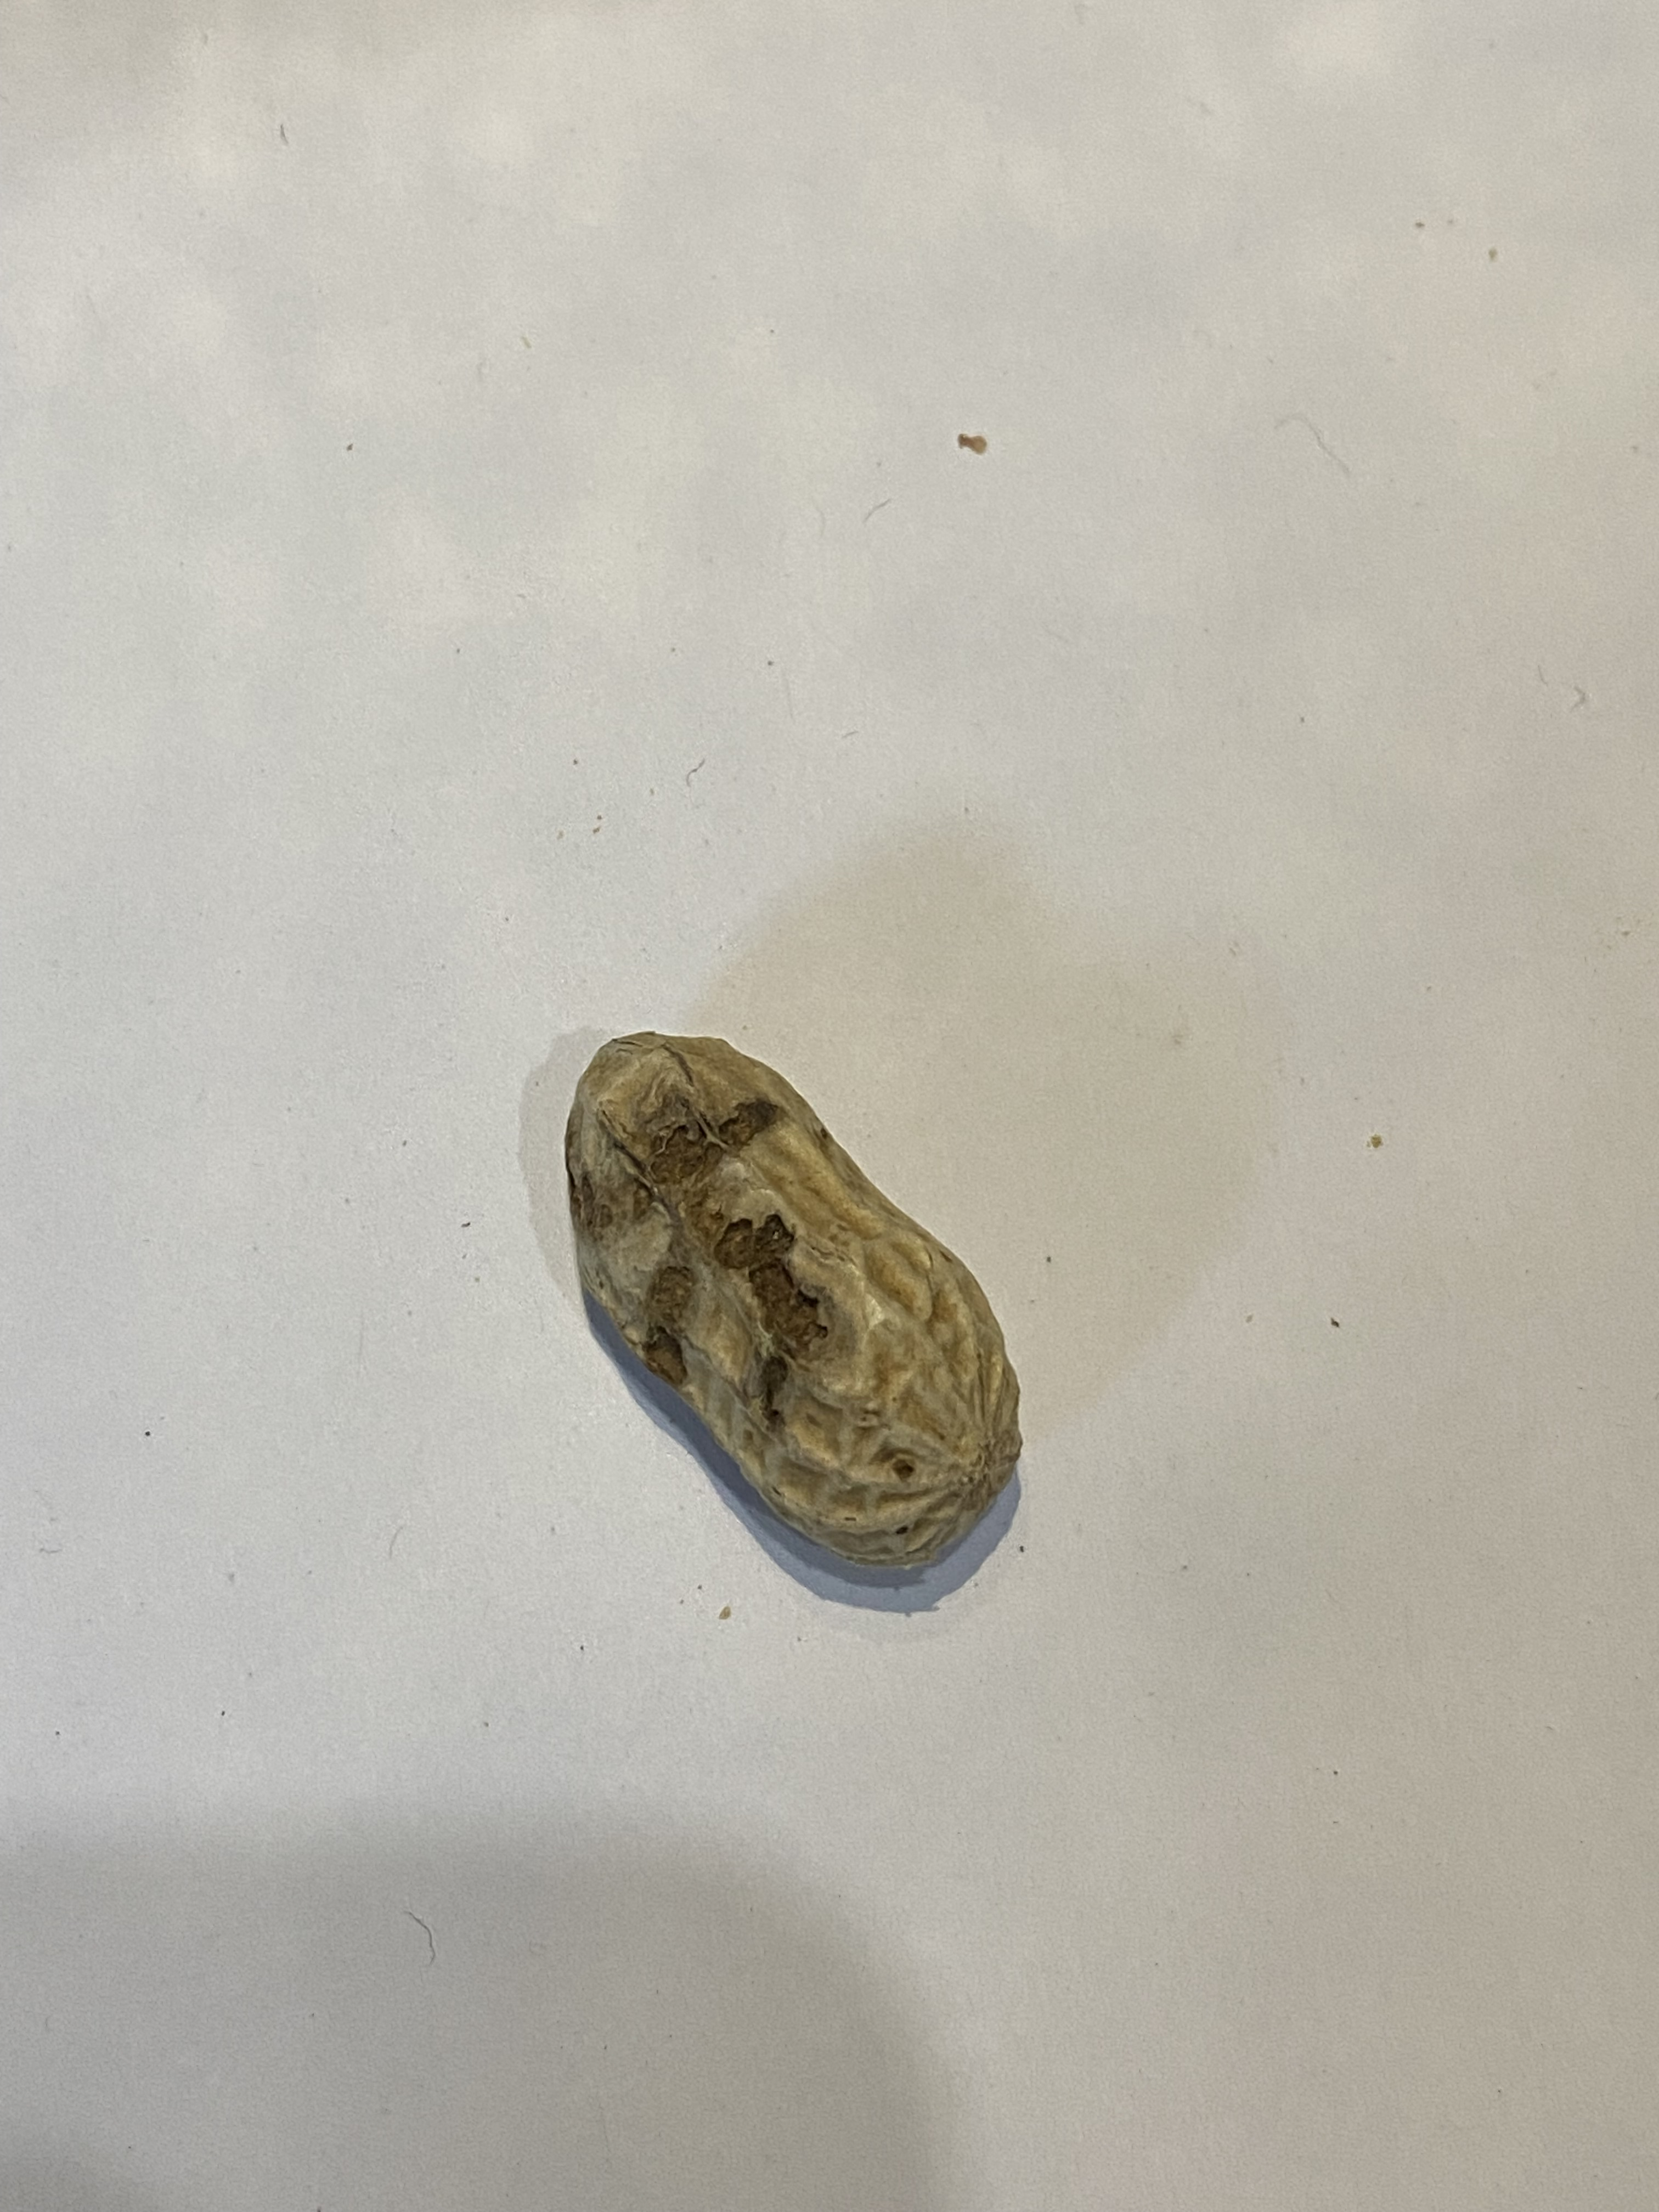kacang2: (537, 1028, 1040, 1580)
